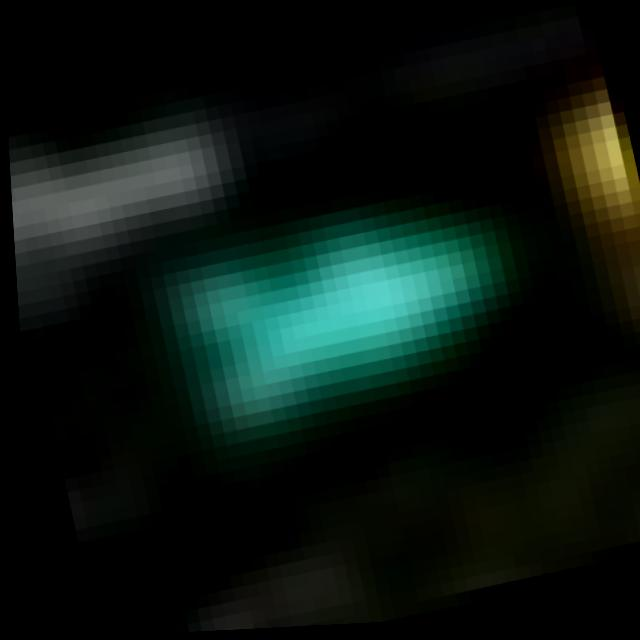green_light: (94, 82, 603, 475)
